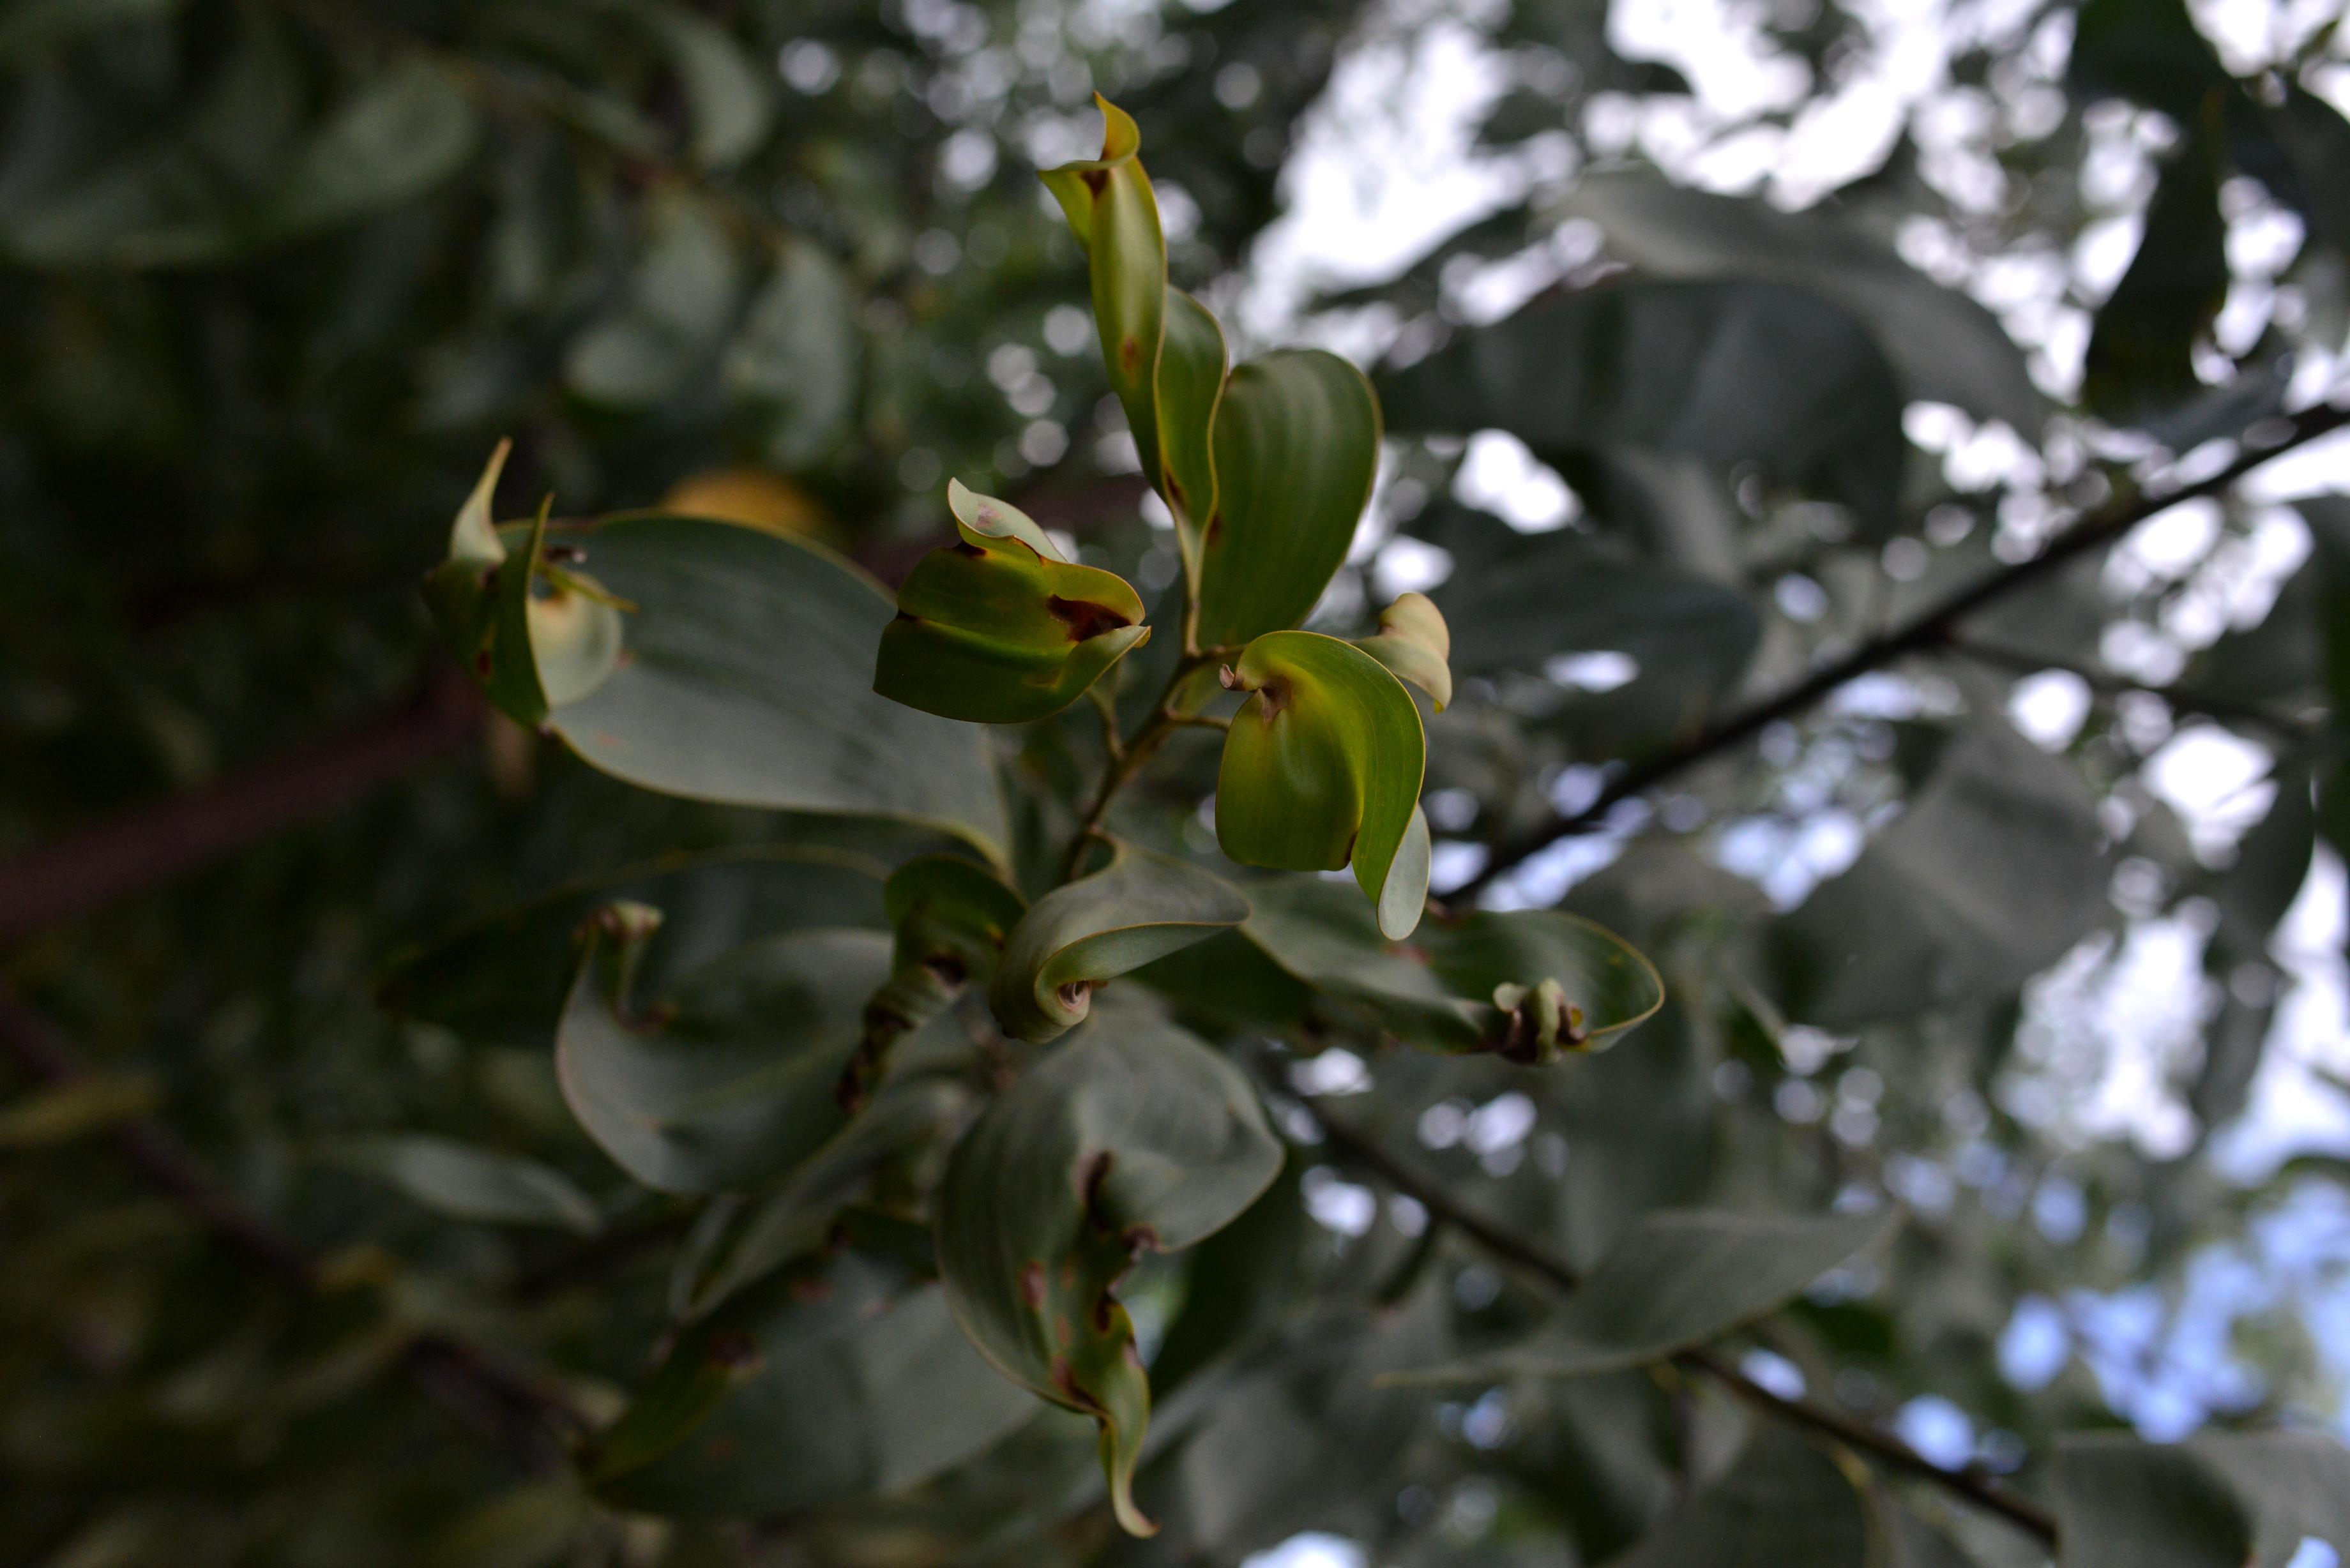Pasalora: (427, 457, 1004, 873), (961, 1017, 1288, 1536), (534, 898, 954, 1183), (1169, 877, 1675, 1092), (1022, 112, 1228, 637), (843, 451, 1150, 777), (1211, 604, 1445, 955), (877, 828, 1183, 1088), (1356, 576, 1463, 700)
